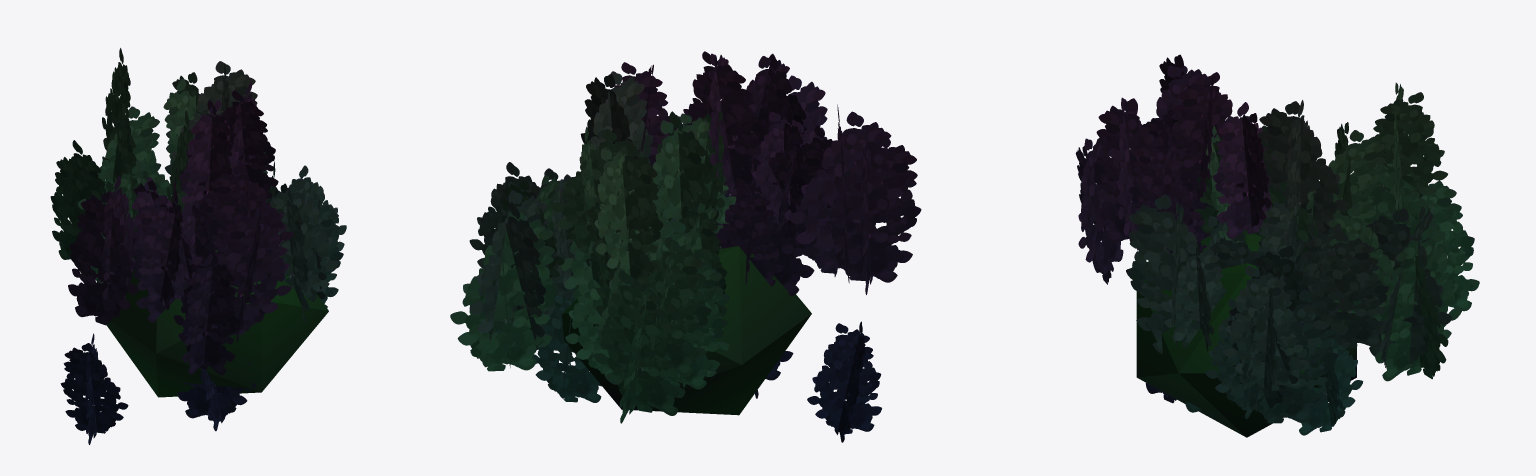
The model's file is nat_bush_dark_a_LOD1.glb.
3 views of the same model, side by side, from view 1: azimuth 30°, elevation 25°; view 2: azimuth 150°, elevation 25°; view 3: azimuth 270°, elevation 25° (orthographic). The views are drawn at different scales.
Visible parts, largest first — view 1: geometry_0; view 2: geometry_0; view 3: geometry_0.
Boxes of the visible parts, x1,y1,x2,y2 form: geometry_0: (50, 48, 346, 444); geometry_0: (450, 51, 921, 442); geometry_0: (1075, 54, 1479, 437).
Size of the model in its own units: 1.14 by 0.8704 by 1.2.
1 material, 1 textured.
